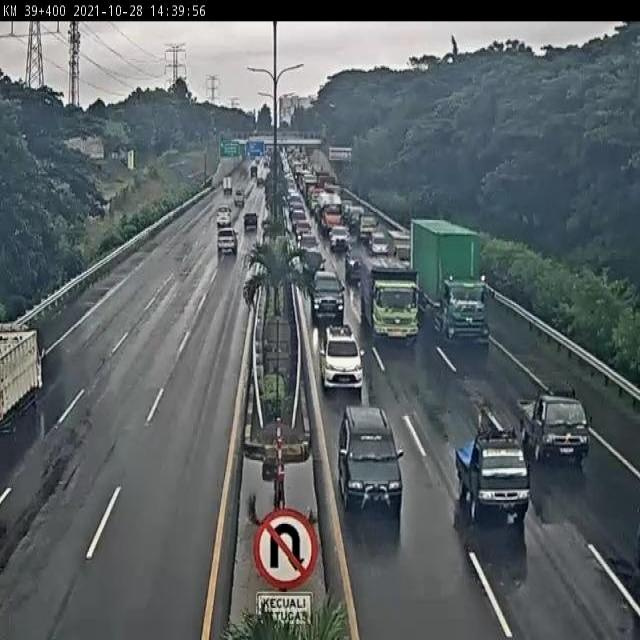Car: (336, 405, 404, 522), (320, 326, 362, 392), (309, 269, 345, 325), (328, 225, 351, 252), (217, 226, 238, 254), (370, 231, 390, 257), (244, 212, 258, 232), (234, 189, 245, 206)
Truck: (455, 407, 531, 526), (412, 221, 482, 320), (521, 384, 590, 466), (362, 264, 422, 347), (316, 191, 343, 231), (390, 232, 411, 263), (359, 217, 379, 244)
